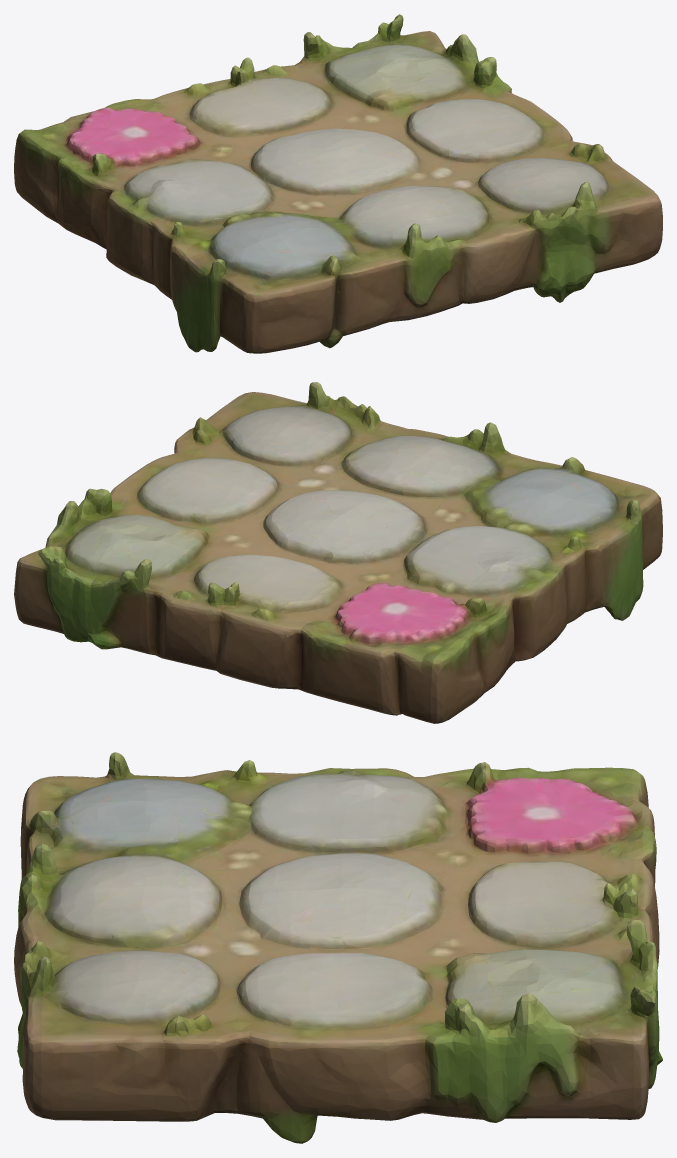
3 views of the same model, one above another, from view 1: azimuth 30°, elevation 25°; view 2: azimuth 150°, elevation 25°; view 3: azimuth 270°, elevation 25° (orthographic). The views are drawn at different scales.
Parts seen in each view (by area): view 1: world; view 2: world; view 3: world.
Boxes of the visible parts, x1,y1,x2,y2 form: world: (14,14,662,353); world: (14,382,662,723); world: (14,752,662,1143).
Size of the model in its own units: 0.9959 by 0.2614 by 0.9824.
1 material, 1 textured.
